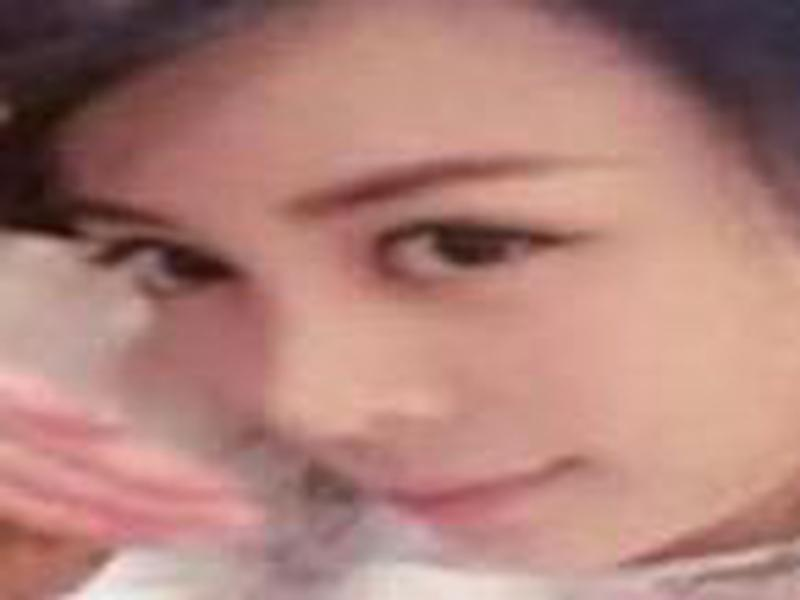without_mask: (46, 59, 783, 565)
